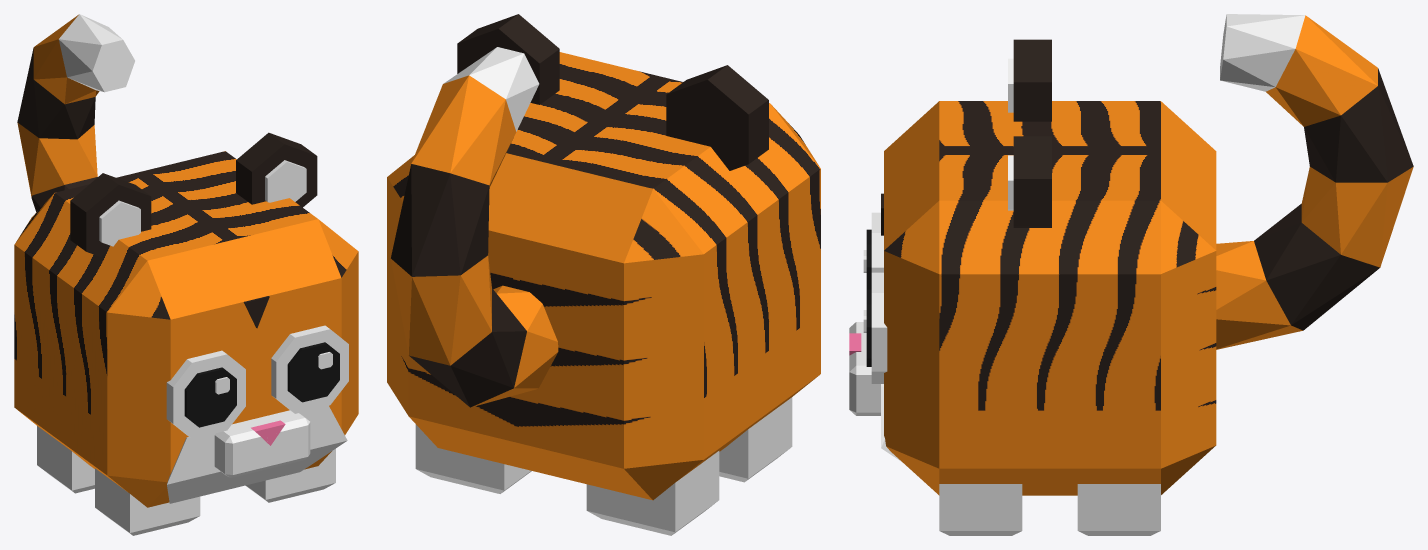
The model's file is Tiger.fbx.
The picture shows the model from 3 angles, left to right: view 1: azimuth 30°, elevation 25°; view 2: azimuth 150°, elevation 25°; view 3: azimuth 270°, elevation 25°; orthographic projection. The views are drawn at different scales.
Parts seen in each view (by area): view 1: Tiger, Tiger_White, Tiger_Dark, Tiger_Eyes, Tiger_Pupils, Tiger_TailTip, Tiger_TailOrange2, Tiger_TailDark2, Tiger_TailOrange3, Tiger_TailDark1, Tiger_Nose; view 2: Tiger, Tiger_White, Tiger_Dark, Tiger_TailDark2, Tiger_TailOrange2, Tiger_TailOrange3, Tiger_TailDark1, Tiger_TailOrange1, Tiger_TailTip; view 3: Tiger, Tiger_White, Tiger_TailDark1, Tiger_TailDark2, Tiger_TailOrange2, Tiger_Dark, Tiger_TailOrange3, Tiger_TailOrange1, Tiger_TailTip, Tiger_Eyes, Tiger_Pupils.
Boxes of the visible parts, x1,y1,x2,y2 form: Tiger: (14,151,358,507); Tiger_White: (37,160,347,535); Tiger_Dark: (70,132,317,328); Tiger_Eyes: (166,325,348,438); Tiger_Pupils: (184,342,339,427); Tiger_TailTip: (58,14,134,92); Tiger_TailOrange2: (17,122,97,197); Tiger_TailDark2: (17,48,95,139); Tiger_TailOrange3: (33,14,99,104); Tiger_TailDark1: (31,177,97,211); Tiger_Nose: (251,420,285,445); Tiger: (387,52,820,500); Tiger_White: (415,397,792,535); Tiger_Dark: (457,14,768,170); Tiger_TailDark2: (391,164,489,276); Tiger_TailOrange2: (391,255,491,365); Tiger_TailOrange3: (411,75,516,187); Tiger_TailDark1: (409,288,526,407); Tiger_TailOrange1: (471,285,558,407); Tiger_TailTip: (443,47,539,131); Tiger: (884,101,1216,495); Tiger_White: (849,58,1160,535); Tiger_TailDark1: (1254,204,1379,330); Tiger_TailDark2: (1304,68,1413,182); Tiger_TailOrange2: (1301,167,1413,267); Tiger_Dark: (881,39,1051,235); Tiger_TailOrange3: (1266,15,1377,126); Tiger_TailOrange1: (1216,241,1302,349); Tiger_TailTip: (1220,14,1305,91); Tiger_Eyes: (863,212,887,383); Tiger_Pupils: (866,229,871,366).
Bounding box in the file's own units: 2 × 2.96 × 3.26.
Materials: 12 (1 with a texture image).
